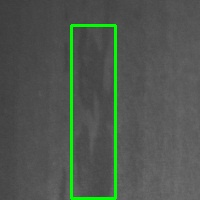inclusion: (71, 25, 115, 198)
